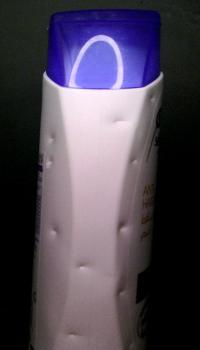dent_marginal: (68, 260, 96, 275), (106, 114, 133, 128), (114, 217, 135, 235), (43, 222, 64, 239), (122, 154, 144, 169), (112, 286, 135, 300), (43, 151, 60, 169), (140, 91, 161, 105), (60, 328, 90, 337), (45, 132, 66, 144), (119, 339, 141, 350)
